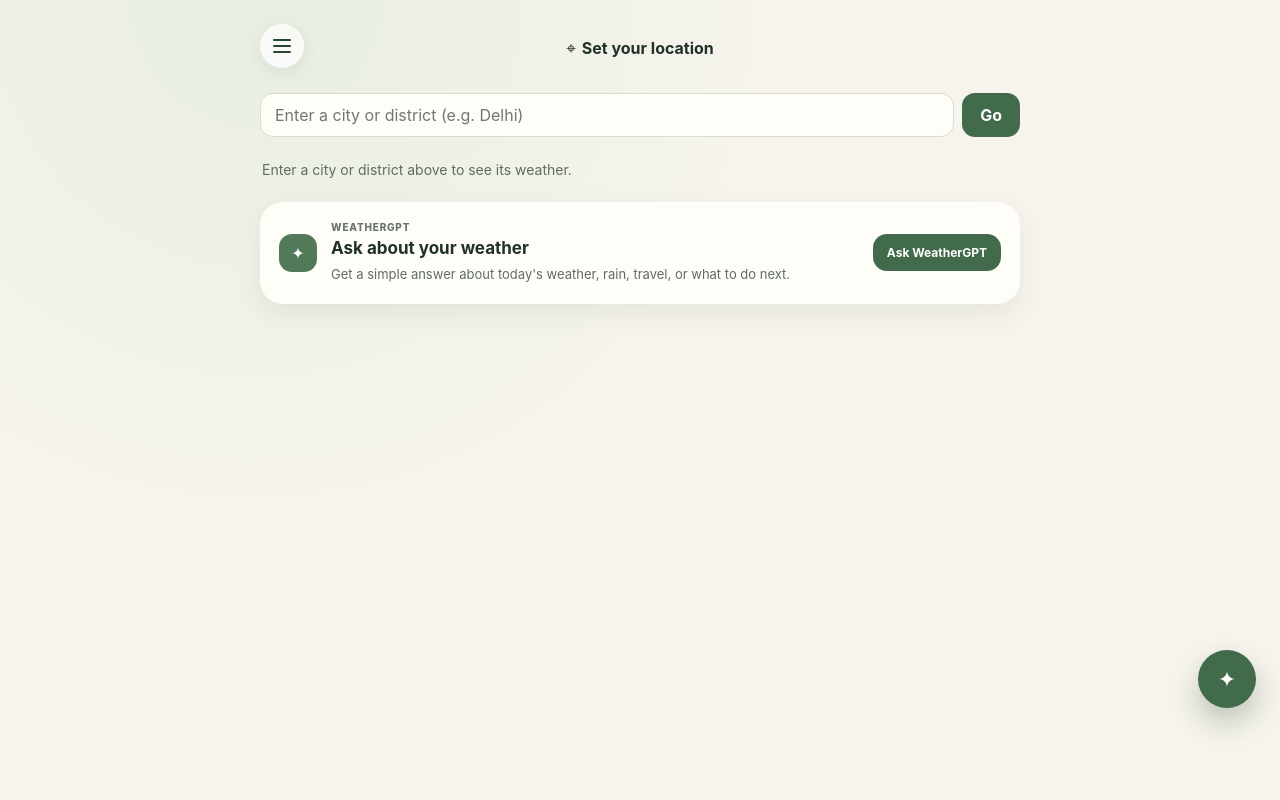
Test: does not remember an unresolvable location
This screenshot has width=1280, height=800.
Type "Zzz" into the field named "Location" at (607, 115), box x1=260 y1=93 x2=954 y2=137
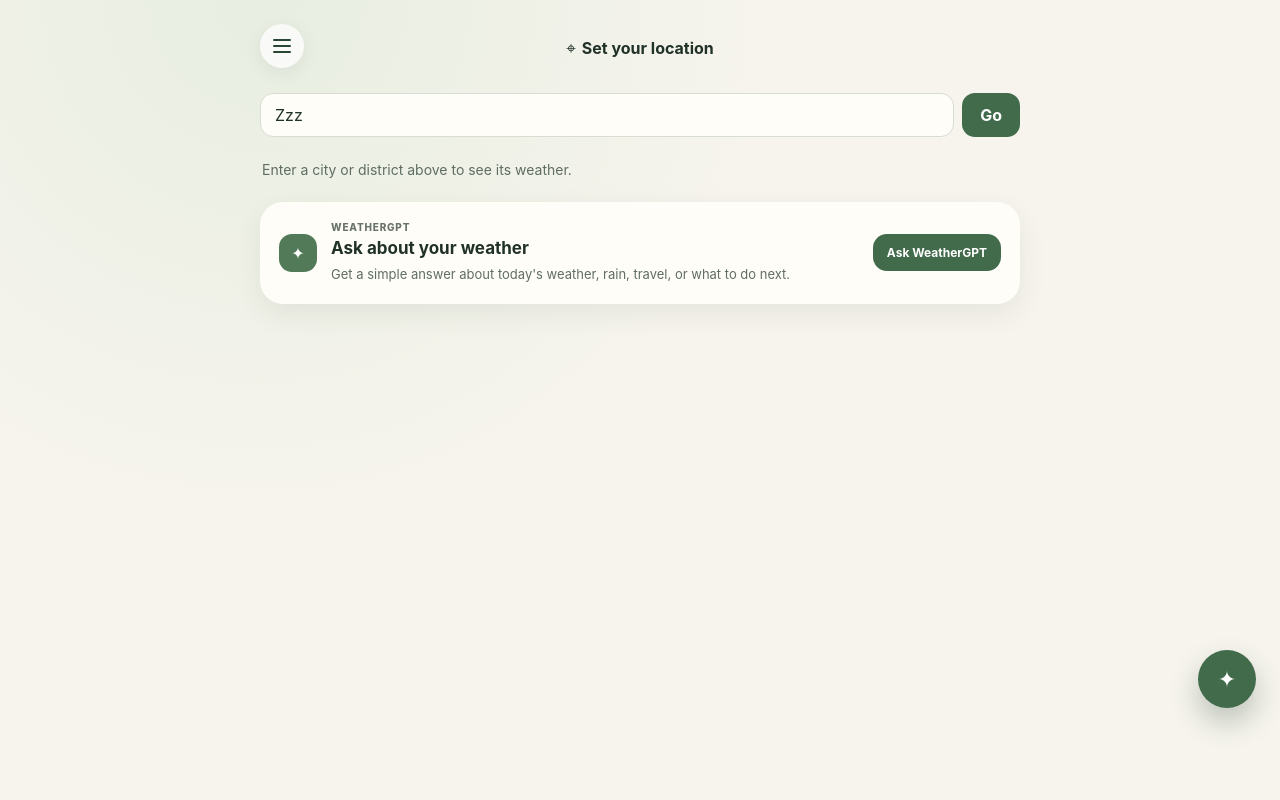
Click the button "Go" at (991, 115), box x1=962 y1=93 x2=1020 y2=137
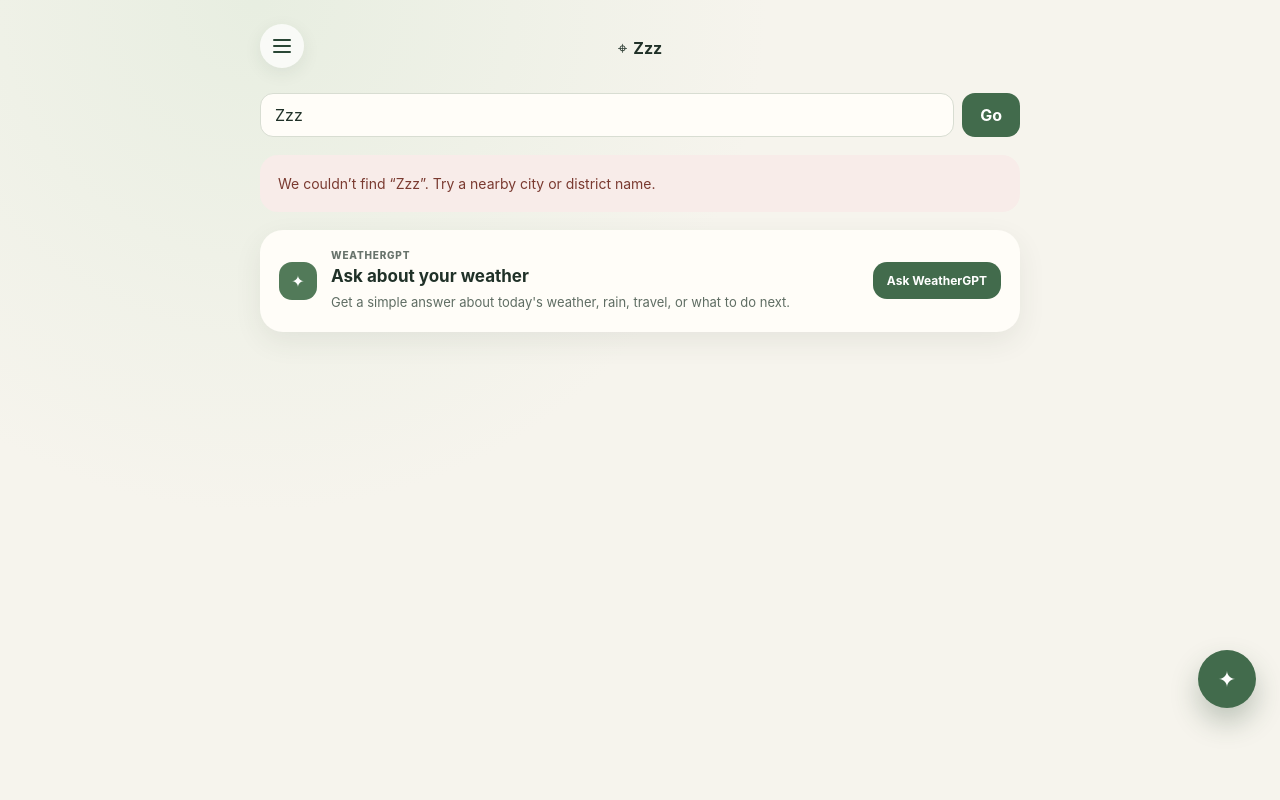
Result: the text "We couldn’t find “Zzz”. Try a nearby city or district name." is shown at x1=278 y1=173 x2=656 y2=194
